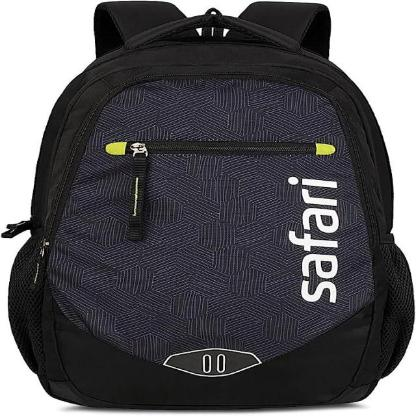bag: (6, 0, 416, 409)
